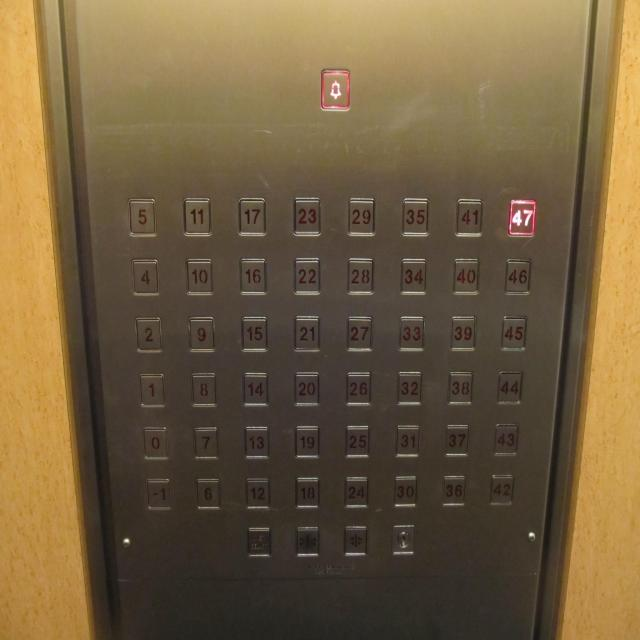-1: (143, 476, 173, 511)
0: (140, 424, 170, 462)
1: (137, 370, 168, 410)
10: (183, 256, 215, 297)
11: (180, 195, 212, 237)
12: (243, 475, 272, 511)
13: (242, 423, 272, 462)
14: (240, 370, 271, 408)
15: (239, 314, 270, 354)
16: (238, 256, 268, 296)
17: (236, 195, 268, 238)
18: (292, 474, 320, 511)
19: (292, 422, 321, 460)
2: (134, 315, 164, 354)
20: (292, 370, 322, 408)
21: (292, 312, 322, 354)
22: (291, 255, 324, 298)
23: (291, 194, 324, 238)
24: (342, 473, 370, 511)
25: (342, 423, 372, 461)
26: (344, 369, 374, 409)
27: (344, 314, 375, 354)
28: (346, 256, 376, 296)
29: (346, 194, 376, 238)
30: (391, 473, 419, 509)
31: (393, 422, 422, 459)
32: (395, 368, 424, 407)
33: (397, 313, 426, 353)
34: (398, 255, 429, 298)
35: (399, 194, 432, 238)
36: (440, 472, 468, 508)
37: (443, 422, 471, 458)
38: (446, 368, 475, 407)
39: (448, 313, 479, 353)
4: (130, 257, 161, 298)
40: (452, 256, 481, 297)
41: (454, 196, 484, 240)
42: (488, 472, 516, 508)
43: (492, 421, 519, 458)
44: (495, 368, 524, 406)
45: (498, 312, 528, 353)
46: (503, 255, 532, 298)
47: (508, 198, 535, 238)
5: (126, 196, 158, 238)
6: (194, 475, 222, 512)
7: (191, 424, 221, 462)
8: (189, 370, 218, 409)
9: (186, 314, 217, 353)
alarm: (319, 67, 353, 113)
blur: (244, 524, 272, 558)
bt_keyhole: (389, 522, 416, 556)
close: (294, 524, 322, 560)
open: (342, 523, 369, 559)
